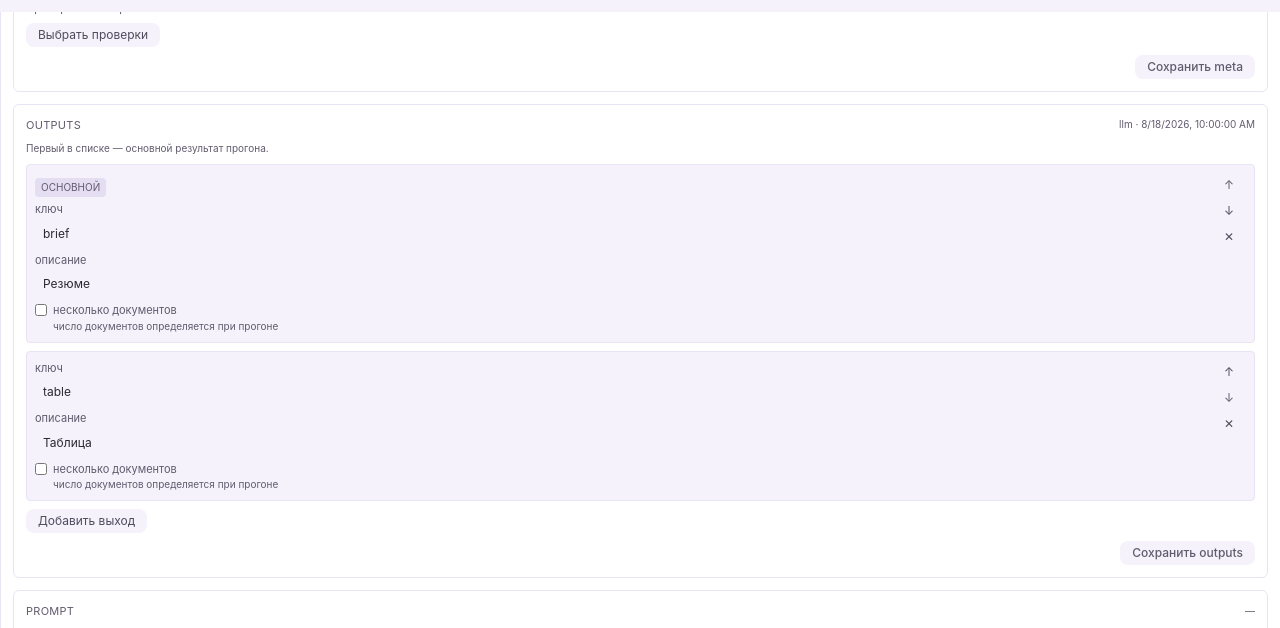
Test case: ArtifactsPanel outputs › moves the primary badge when a row is raised
The width and height of the screenshot is (1280, 628).
(page scrolled)
Click the button named "Поднять выход table": point(1229, 372) [1212,360,1246,384]
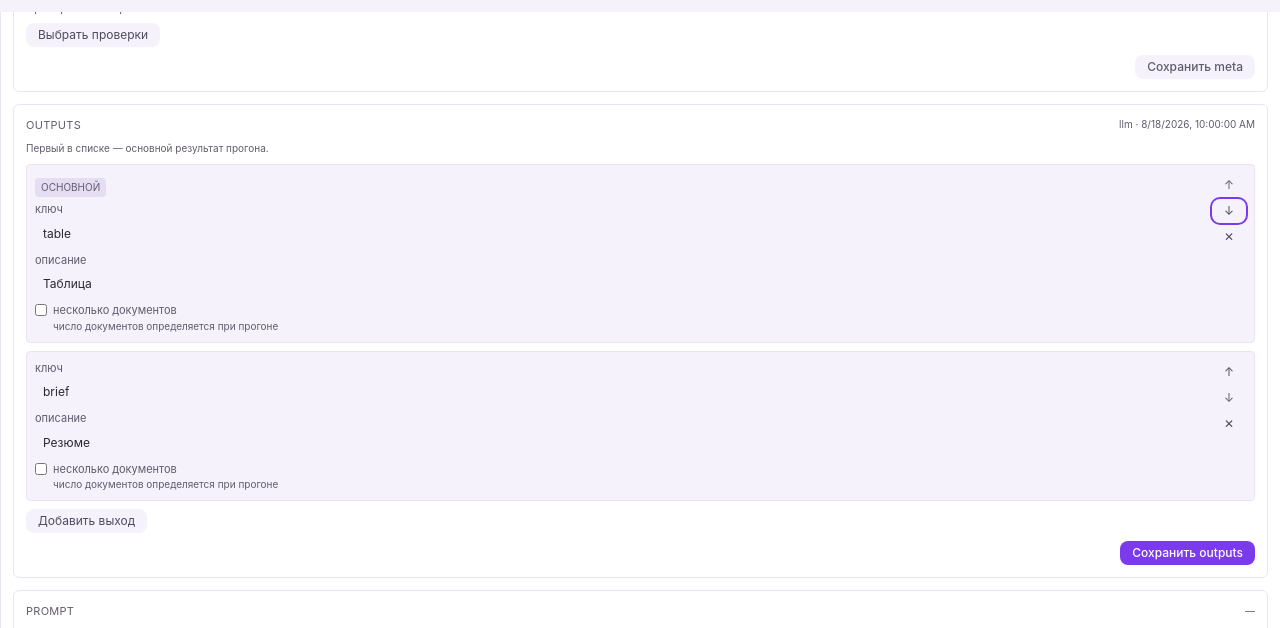
Check: the text "основной" is shown once, box [35,178,106,197]
Check: the 1st field showing "table" holds "table", box [35,222,1204,246]
